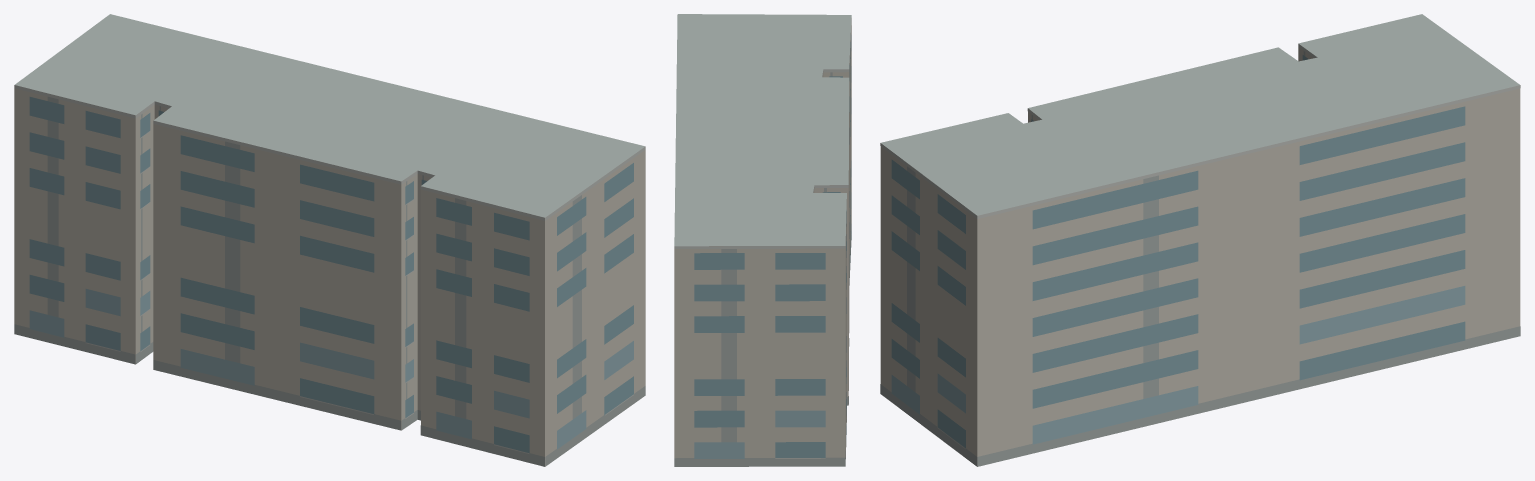
The model's file is survey-upis-32722780.glb.
3 views of the same model, side by side, from view 1: azimuth 30°, elevation 25°; view 2: azimuth 150°, elevation 25°; view 3: azimuth 270°, elevation 25° (orthographic). The views are drawn at different scales.
Parts seen in each view (by area): view 1: survey-upis-32722780.tmp; view 2: survey-upis-32722780.tmp; view 3: survey-upis-32722780.tmp.
Part boxes in pixels (left/top/right/bottom): survey-upis-32722780.tmp: left=14, top=14, right=645, bottom=466; survey-upis-32722780.tmp: left=674, top=14, right=851, bottom=466; survey-upis-32722780.tmp: left=880, top=14, right=1520, bottom=466.
Size of the model in its own units: 32.07 by 18.6 by 42.97.
